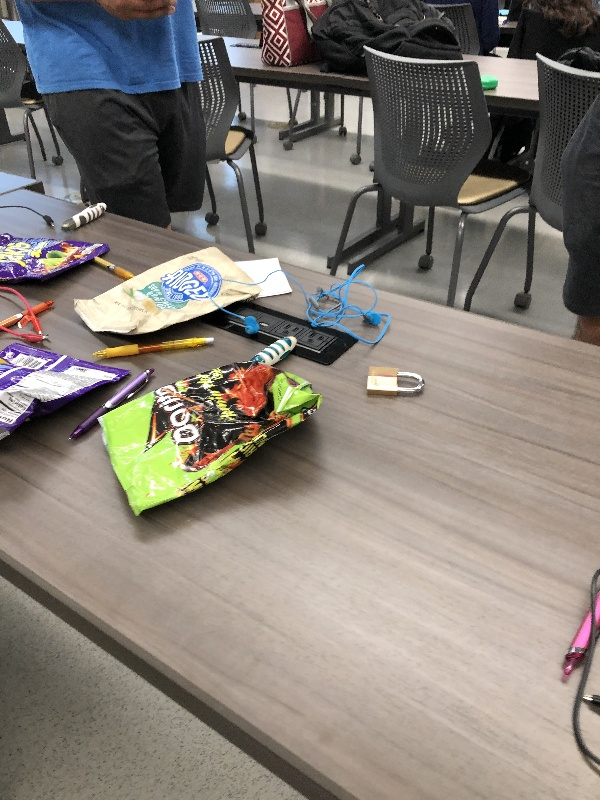bag: (94, 353, 328, 533), (67, 243, 265, 340), (1, 336, 132, 459), (1, 231, 113, 288)
